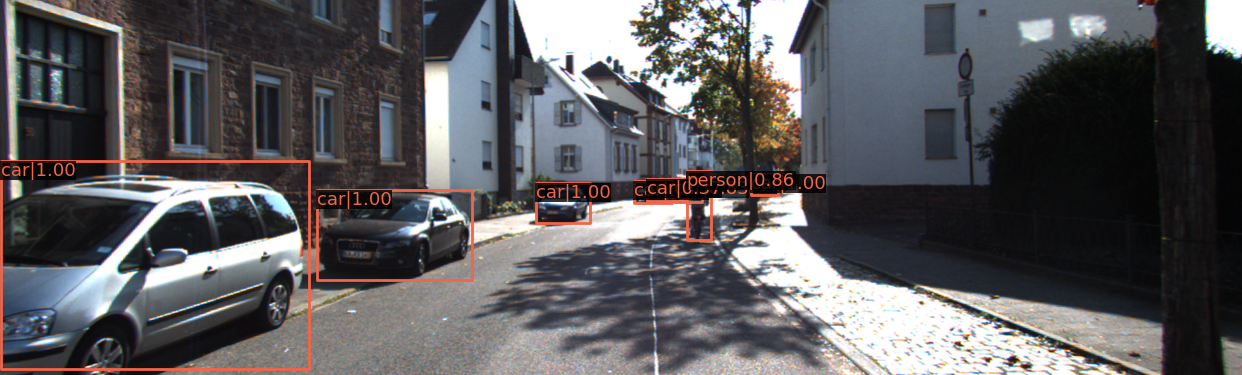car: (1, 168, 315, 375), (314, 191, 475, 281), (536, 188, 590, 224), (634, 184, 669, 204)
